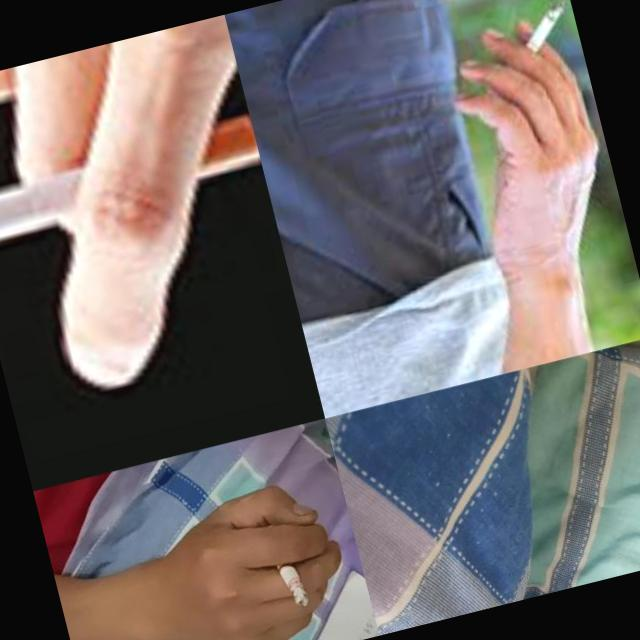cigarette: (0, 112, 265, 253), (508, 0, 574, 62), (268, 547, 311, 612)
